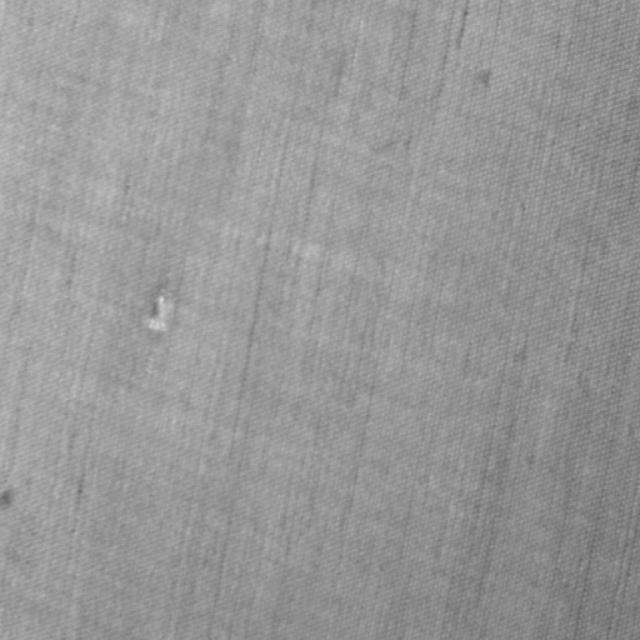hole: (142, 288, 171, 340)
